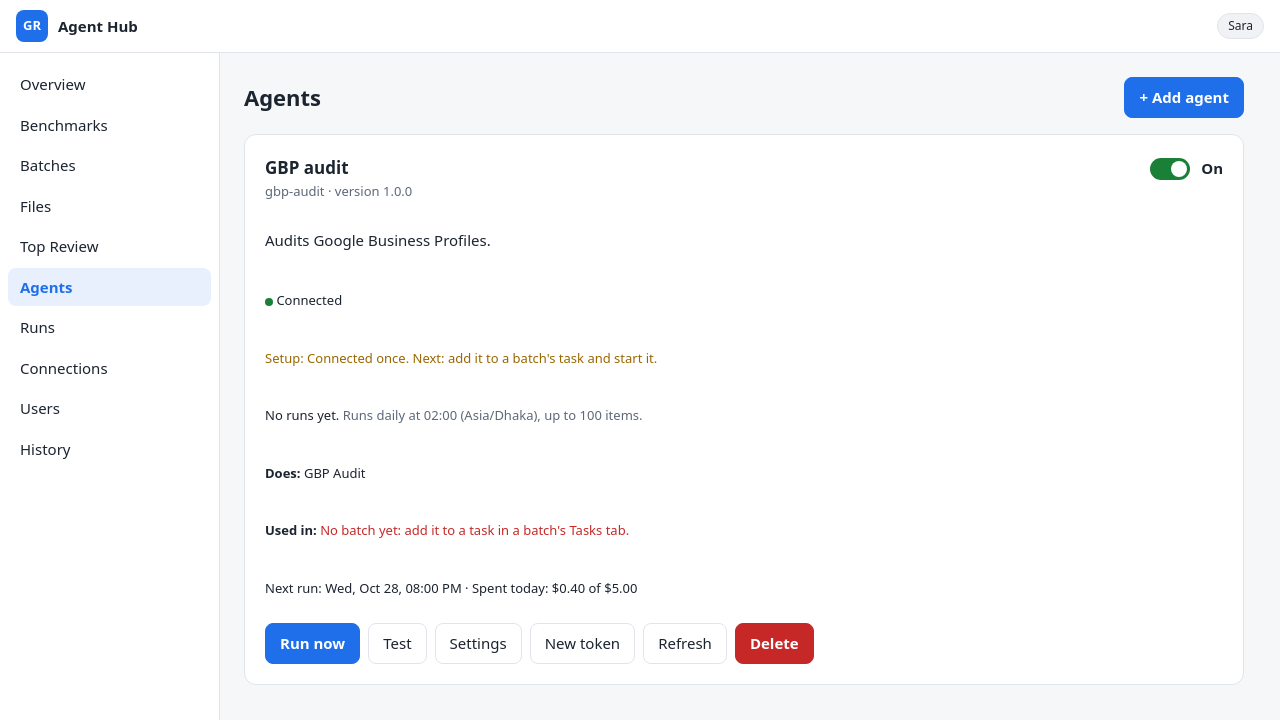
Scenario: a settings error from the server shows under its field
The image size is (1280, 720).
Step 1. Click the button "Settings" → click(478, 643), box top-left (435, 623), bottom-right (522, 664)
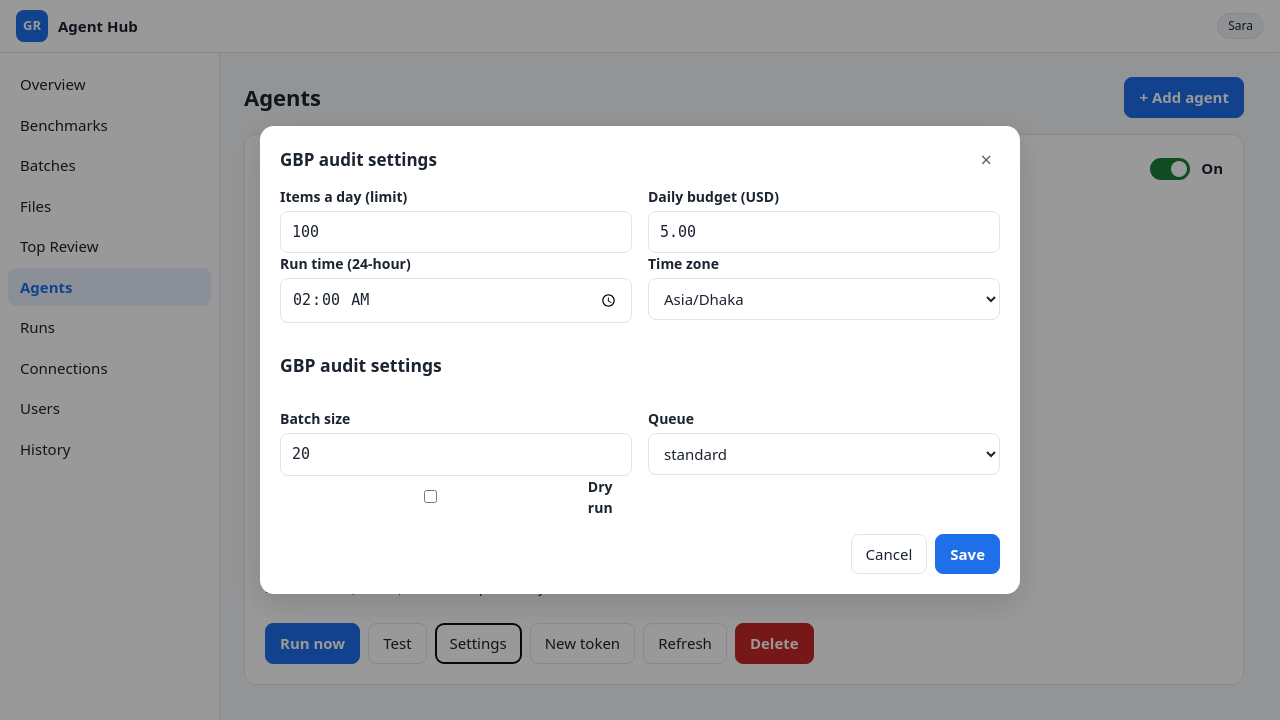
Step 2. Click the button "Save" → click(968, 554), box top-left (935, 534), bottom-right (1000, 574)
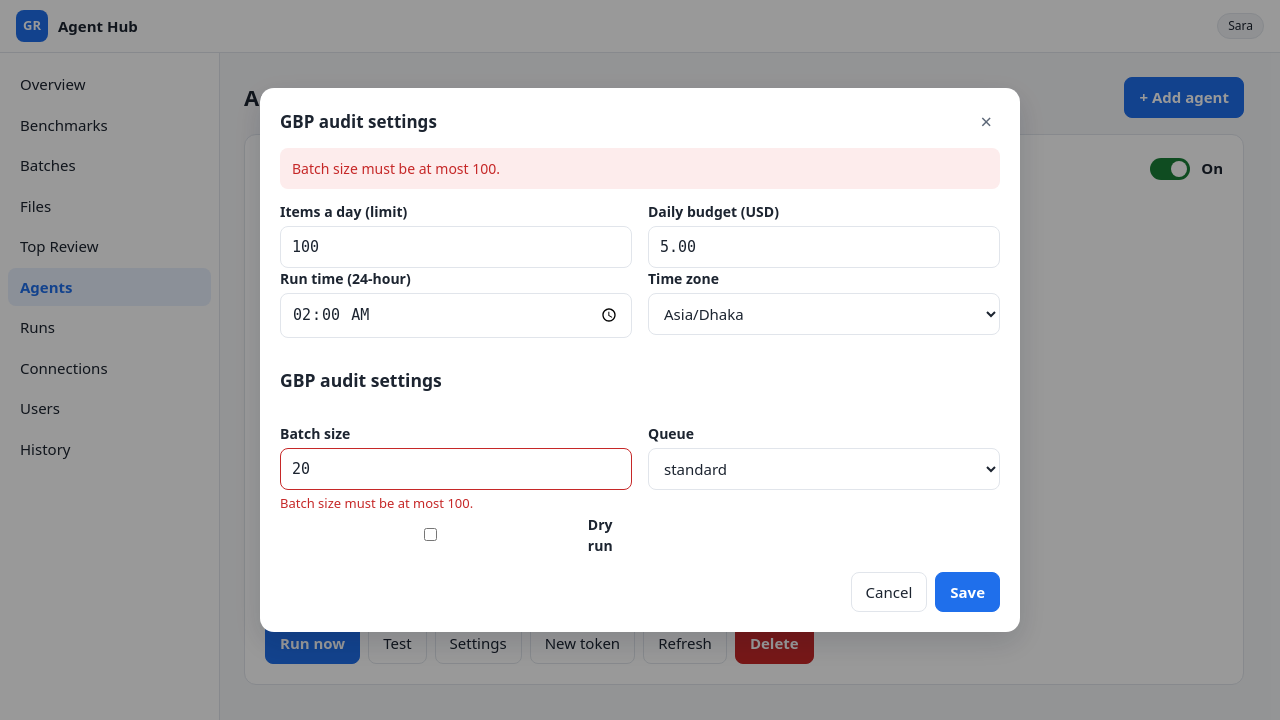
Check: the text "Batch size must be at most 100." is shown 2 times, box top-left (280, 148), bottom-right (1000, 188); top-left (280, 494), bottom-right (473, 512)
